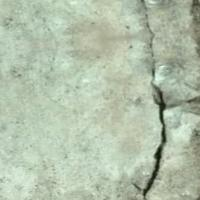crack: (124, 1, 175, 199)
